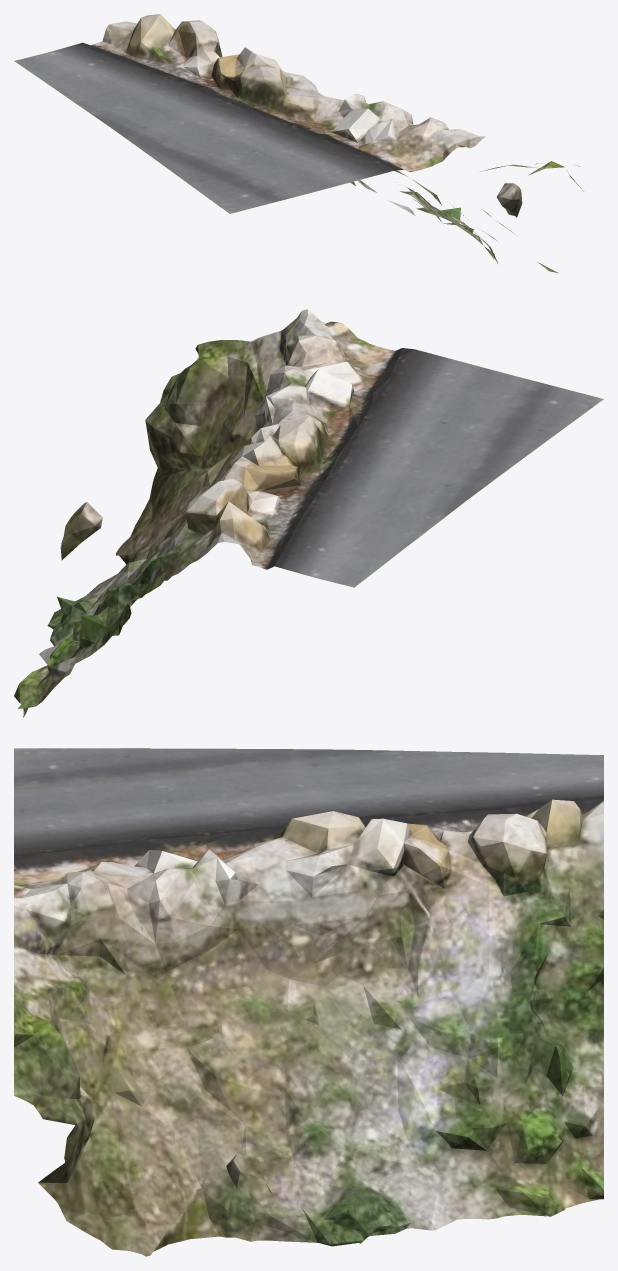
3 views of the same model, one above another, from view 1: azimuth 30°, elevation 25°; view 2: azimuth 150°, elevation 25°; view 3: azimuth 270°, elevation 25° (orthographic). The views are drawn at different scales.
Size of the model in its own units: 5.9 by 3.25 by 5.9.
3 materials, 3 textured.
